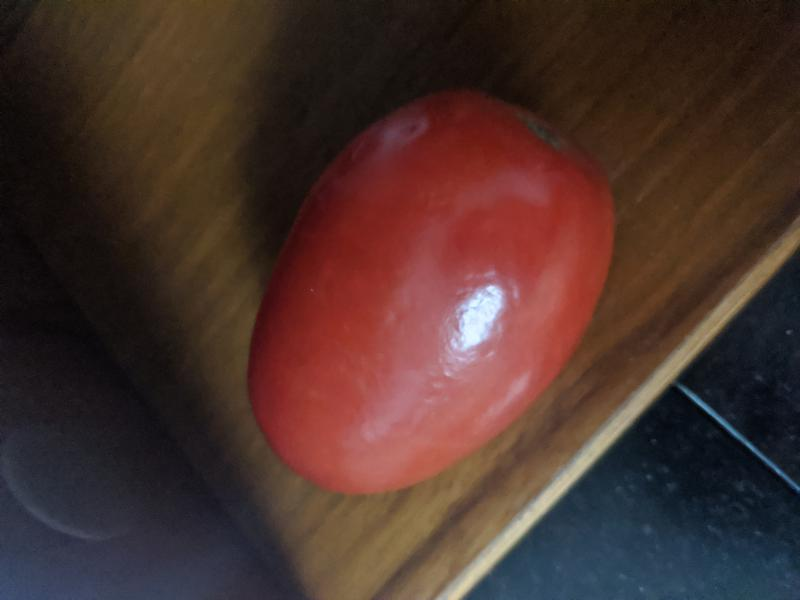tomato: (244, 88, 618, 496)
